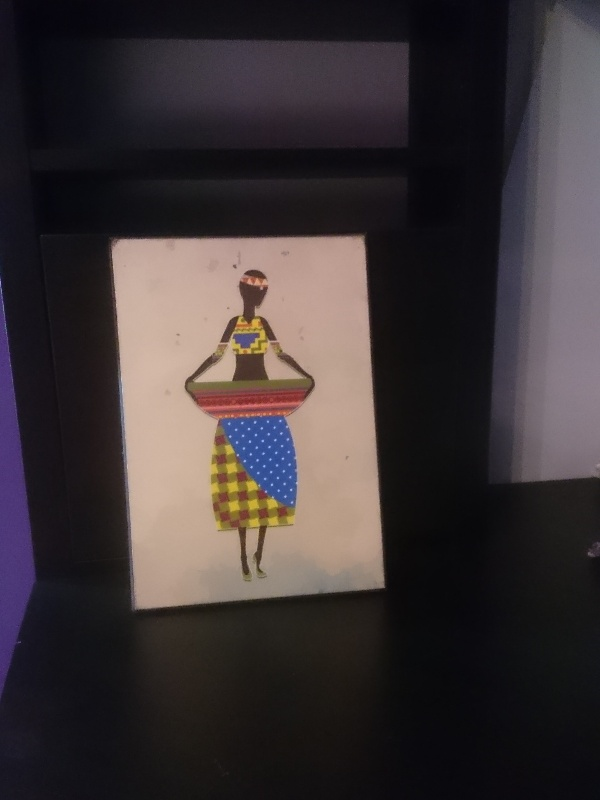my image: (114, 237, 380, 611)
